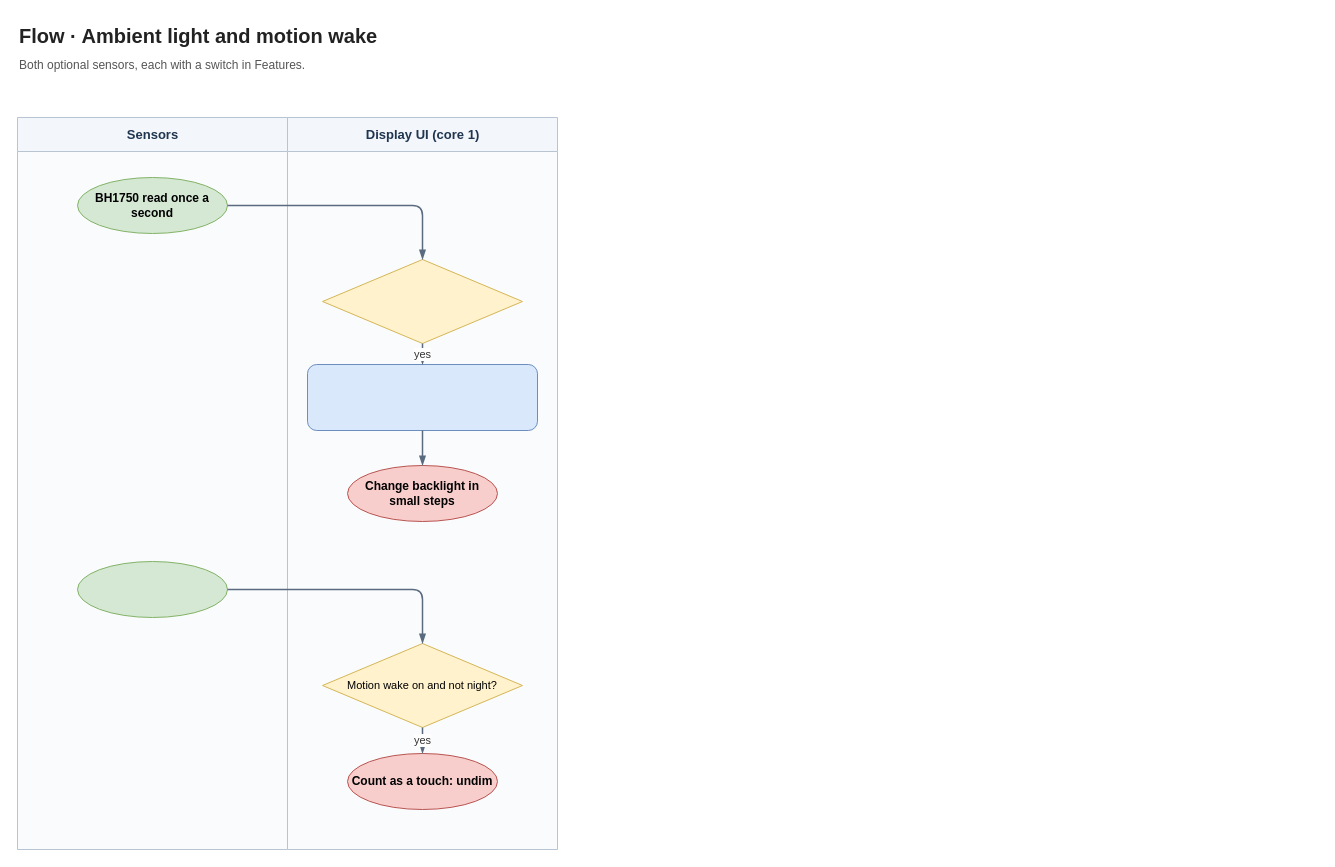
Some shapes in this 1335 by 867 pixel diagram are drawn without their labels. The box of each missing label's shape, as (x1, y1, x2, y2) in pixels:
Ambient light on?: (322, 258, 522, 344)
Brightness setting scaled by room light (log curve): (306, 364, 538, 430)
PIR on IO44: new movement: (76, 560, 228, 618)
